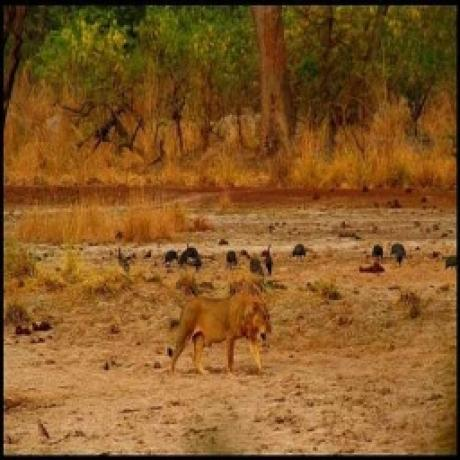Lion: (158, 290, 278, 378)
